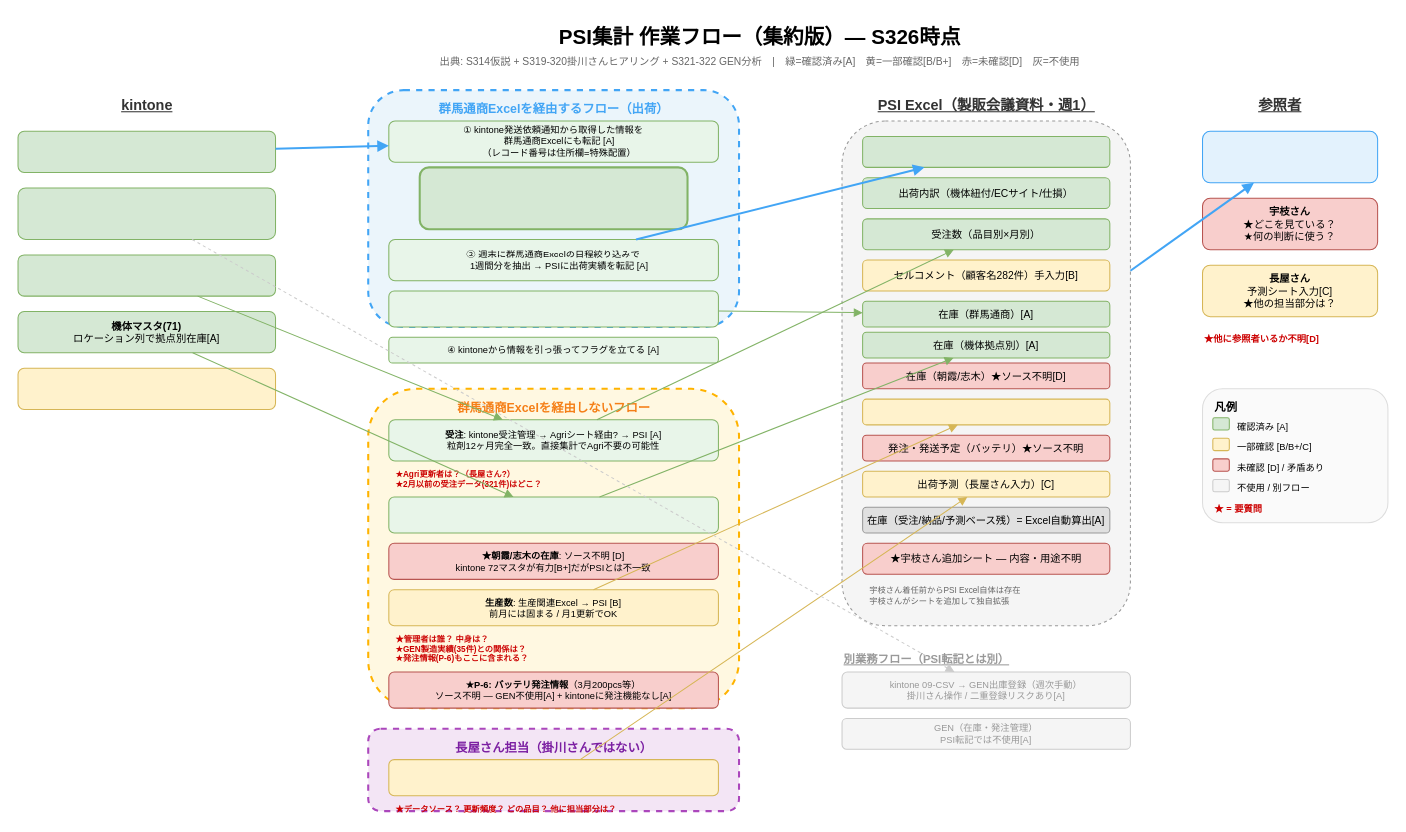
Image size: 1406x832. Some labels were removed from this diagram. The shapes that lost their labels are listed below. From the top down, each one's box as (x1, y1, x2, y2) in pixels, then its label:
(17, 130, 276, 173): 発送依頼通知 発送先名 / 発送日 / レコード番号
(862, 135, 1110, 167): 出荷実績（週次・品目別×週別）
(1201, 130, 1378, 183): 製販会議（週1） 当面は週1継続 （宇枝さん判断）
(17, 187, 276, 239): 09-発送製品CSV 掛川さん用カスタムビュー（1週間分） 仕損フラグあり[A] / EC=GEN受注番号[B]
(418, 166, 688, 230): 群馬通商Excel 在庫管理 / フラグ管理 / 日程絞り込み機能 ★なぜ経由が必要？ ★他に誰が見ている？
(17, 254, 276, 296): 普及支援/受注管理 2026年2月〜運用開始[A]
(388, 290, 718, 327): ③ 群馬通商Excel「入庫保管中」→ PSI在庫 [A] BB102/粒剤/バッテリ 3品目完全一致確認済み
(17, 367, 276, 409): オプションマスタ(72) ロケーション列[B+] ※PSI在庫とは不一致
(862, 398, 1110, 425): 生産数（ナカヨ/渡辺 月別）[B]
(388, 496, 718, 533): 機体拠点別在庫 : kintone機体マスタ(71) → PSI [A] BB102@群馬通商19台 / SL福島10台 完全一致
(388, 759, 718, 796): 出荷予測 : 長屋さんがPSI予測シートに入力 [C] おそらくkintoneから情報取得（掛川さん推測）
